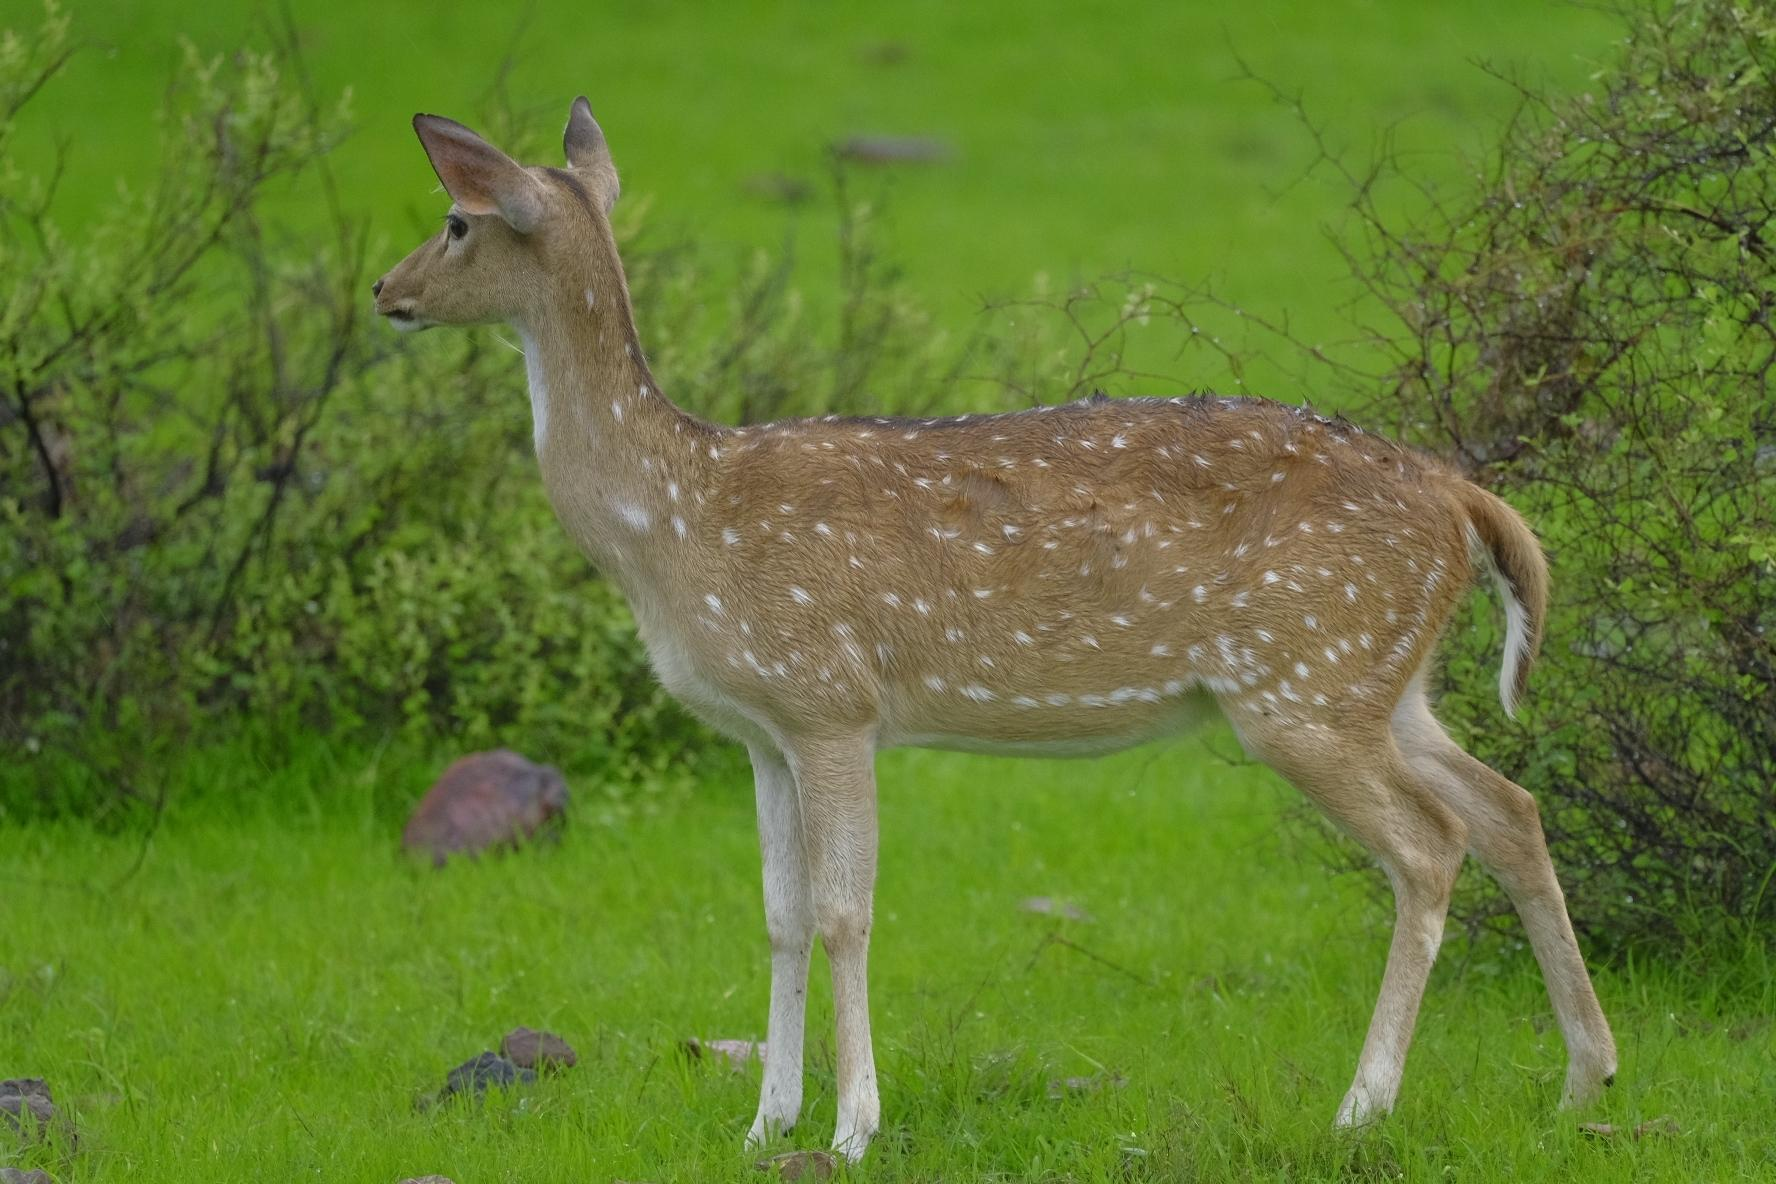Deer: (373, 98, 1616, 1158)
